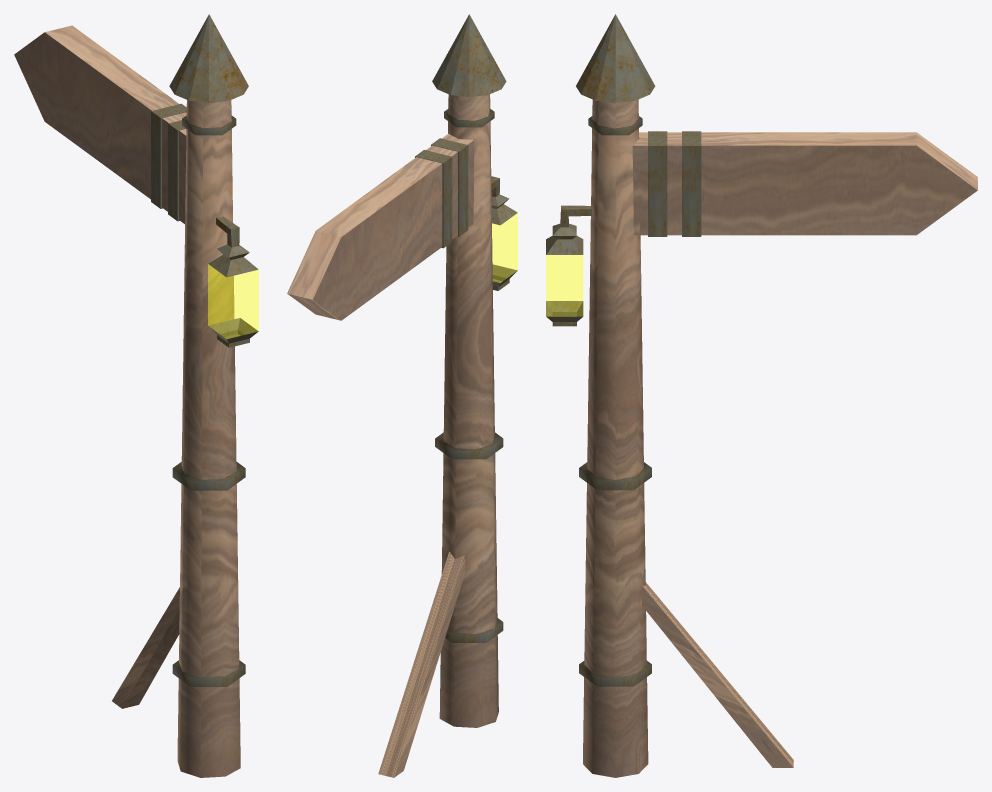
Rendered from signboard.glb.
3 renders of one model, left to right at view 1: azimuth 30°, elevation 25°; view 2: azimuth 150°, elevation 25°; view 3: azimuth 270°, elevation 25°, orthographic. The views are drawn at different scales.
Parts seen in each view (by area): view 1: pole, board, cap, light, support, lamp, ring5, ring4, ring2, ring1, ring3; view 2: pole, board, support, cap, light, ring4, ring5, lamp, ring2, ring1, ring3; view 3: pole, board, support, cap, lamp, light, ring4, ring5, ring2, ring1.
Part boxes in pixels (x1,y1,x2,y2): pole: (177, 100, 240, 777); board: (14, 25, 186, 223); cap: (169, 14, 248, 102); light: (208, 264, 258, 338); support: (112, 587, 179, 708); lamp: (208, 216, 258, 347); ring5: (151, 103, 186, 208); ring4: (168, 120, 186, 221); ring2: (172, 462, 245, 490); ring1: (172, 660, 245, 686); ring3: (182, 115, 236, 135); pole: (439, 94, 498, 727); board: (287, 133, 474, 320); support: (378, 551, 464, 777); cap: (432, 14, 506, 97); light: (492, 213, 517, 282); ring4: (431, 138, 468, 236); ring5: (415, 150, 452, 248); lamp: (491, 176, 517, 290); ring2: (435, 432, 503, 459); ring1: (445, 618, 503, 642); ring3: (444, 109, 494, 127); pole: (583, 99, 648, 777); board: (632, 132, 977, 235); support: (641, 582, 793, 767); cap: (576, 14, 655, 102); lamp: (546, 205, 591, 326); light: (546, 255, 582, 316); ring4: (648, 131, 667, 236); ring5: (682, 131, 701, 236); ring2: (579, 462, 651, 490); ring1: (579, 661, 651, 686).
Bounding box in the file's own units: 0.6453 × 6.71 × 3.5.
Materials: 3 (2 with a texture image).
